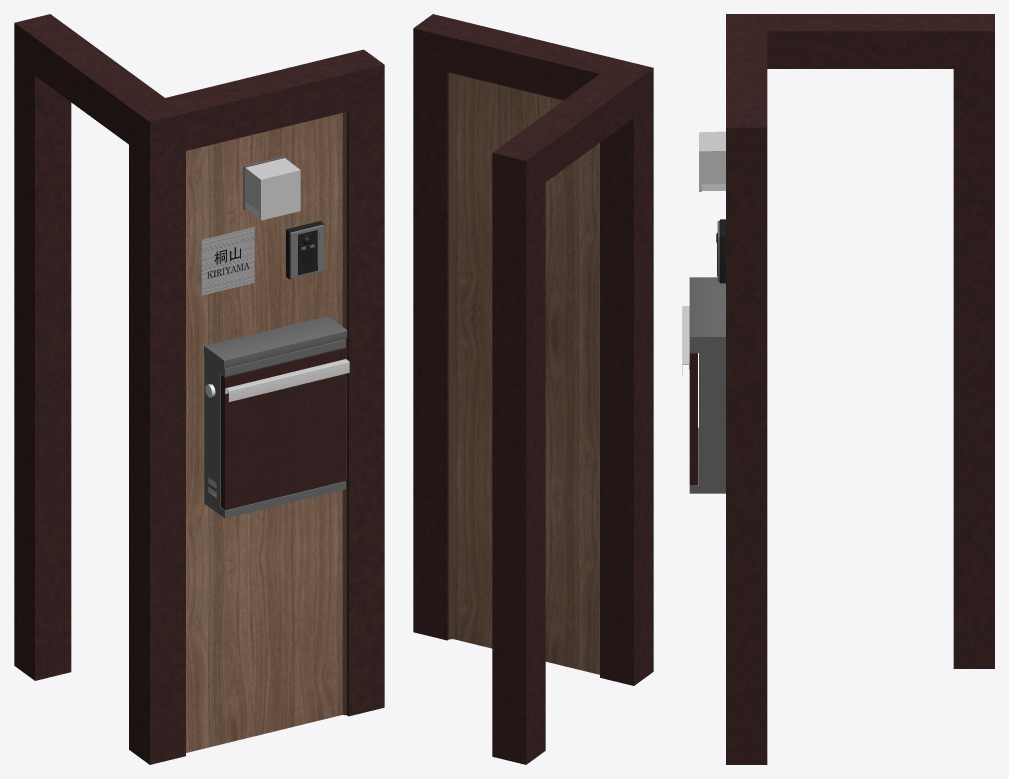
The model's file is abmonchu-styles5_americanwalnut.fbx.
3 views of the same model, side by side, from view 1: azimuth 30°, elevation 25°; view 2: azimuth 150°, elevation 25°; view 3: azimuth 270°, elevation 25° (orthographic). The views are drawn at different scales.
Parts seen in each view (by area): view 1: abmonchu-styles5_americanwalnut; view 2: abmonchu-styles5_americanwalnut; view 3: abmonchu-styles5_americanwalnut.
Part boxes in pixels (left/top/right/bottom): abmonchu-styles5_americanwalnut: left=14, top=14, right=384, bottom=764; abmonchu-styles5_americanwalnut: left=413, top=14, right=653, bottom=764; abmonchu-styles5_americanwalnut: left=682, top=14, right=994, bottom=764.
Bounding box in the file's own units: 65 × 170 × 75.61.
Materials: 18 (8 with a texture image).
